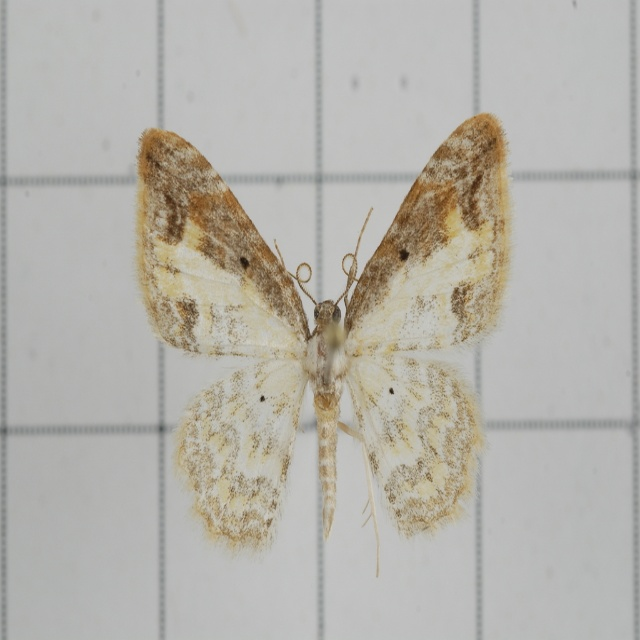Butterfly: (136, 122, 514, 591)
